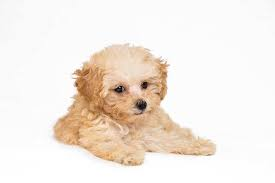Poodle: (29, 24, 235, 170)
